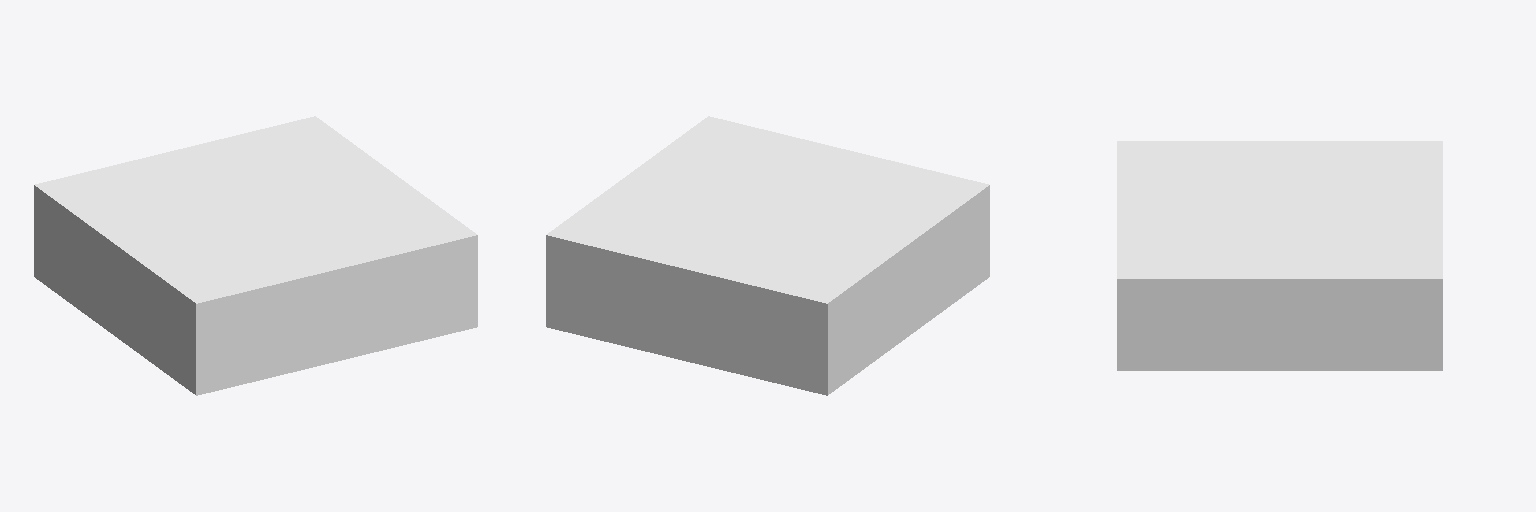
The model's file is tiles-2.obj.
The picture shows the model from 3 angles: view 1: azimuth 30°, elevation 25°; view 2: azimuth 150°, elevation 25°; view 3: azimuth 270°, elevation 25°; orthographic projection.
Visible parts, largest first — view 1: object 1; view 2: object 1; view 3: object 1.
Part boxes in pixels (bbox=[...]): object 1: bbox=[34, 116, 477, 395]; object 1: bbox=[546, 116, 989, 395]; object 1: bbox=[1117, 141, 1442, 370].
Size of the model in its own units: 3.2 by 1 by 3.2.